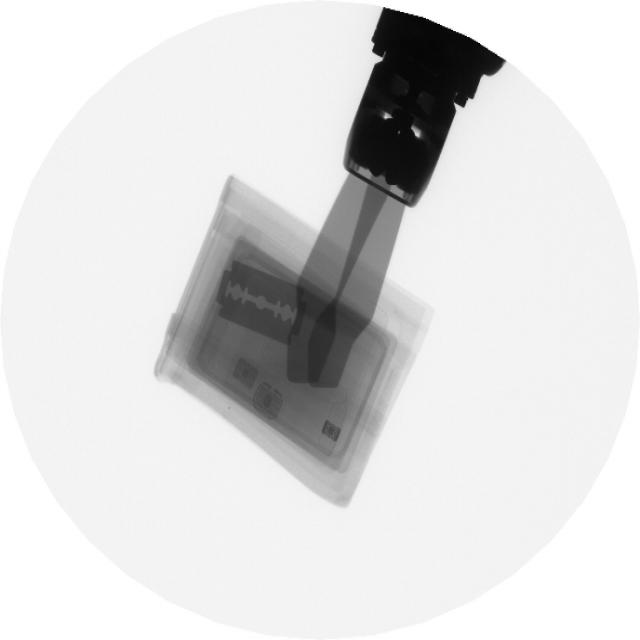BLADE: (212, 242, 307, 352)
